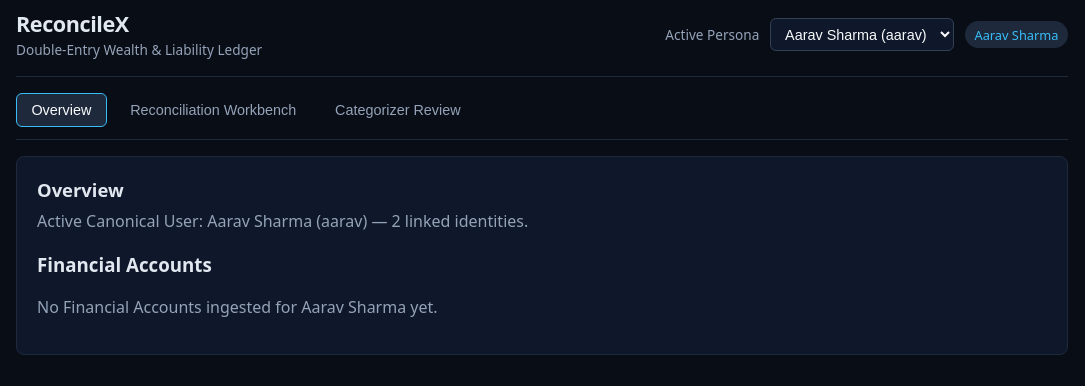
Test: ReconcileX App Shell › navigates across Overview, Reconciliation Workbench, and Categorizer Review views
Expected: the heading "Overview" is shown, [37,177,124,202]
Click the button "Reconciliation Workbench". click: x=213, y=110
box: [115,93,312,127]
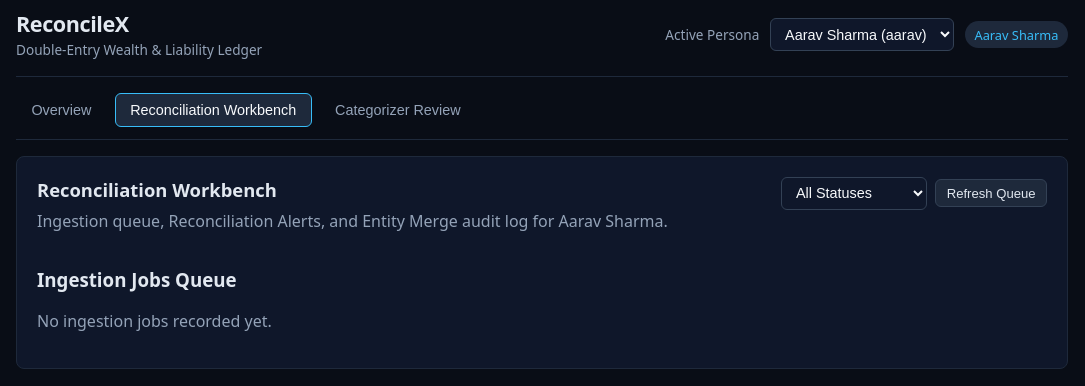
Expected: the heading "Reconciliation Workbench" is shown, [37,177,277,202]
Click the button "Categorizer Review". click: x=398, y=110
box: [320,93,476,127]
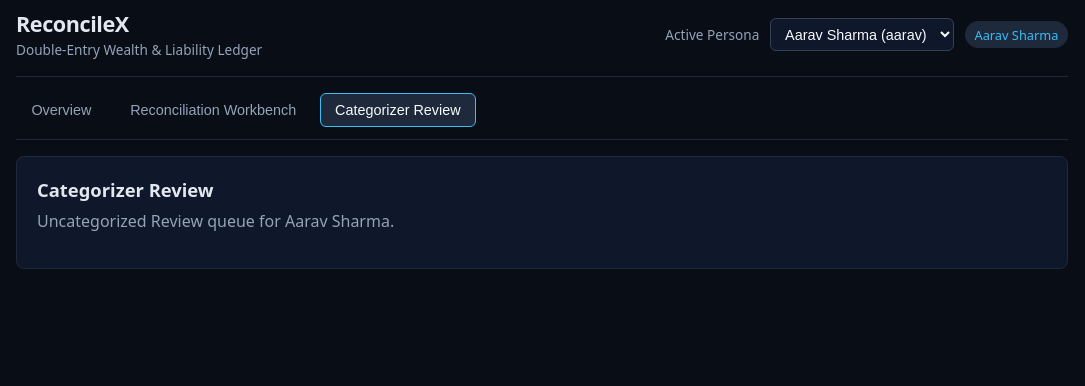
Expected: the heading "Categorizer Review" is shown, [37,177,214,202]
